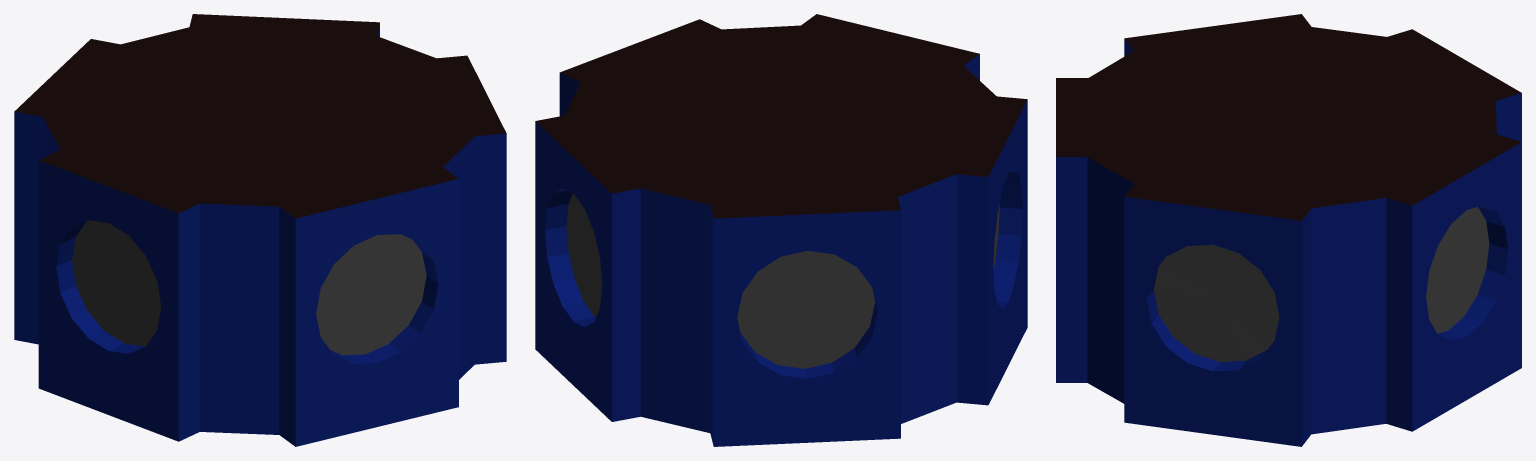
The model's file is occam.dae.
3 views of the same model, side by side, from view 1: azimuth 30°, elevation 25°; view 2: azimuth 150°, elevation 25°; view 3: azimuth 270°, elevation 25° (orthographic).
Visible parts, largest first — view 1: Shape_IndexedFaceSet; view 2: Shape_IndexedFaceSet; view 3: Shape_IndexedFaceSet.
Boxes of the visible parts, bbox=[...] form: Shape_IndexedFaceSet: bbox=[14, 14, 506, 446]; Shape_IndexedFaceSet: bbox=[535, 14, 1027, 446]; Shape_IndexedFaceSet: bbox=[1056, 14, 1521, 446].
Bounding box in the file's own units: 0.1051 × 0.1 × 0.0535.
